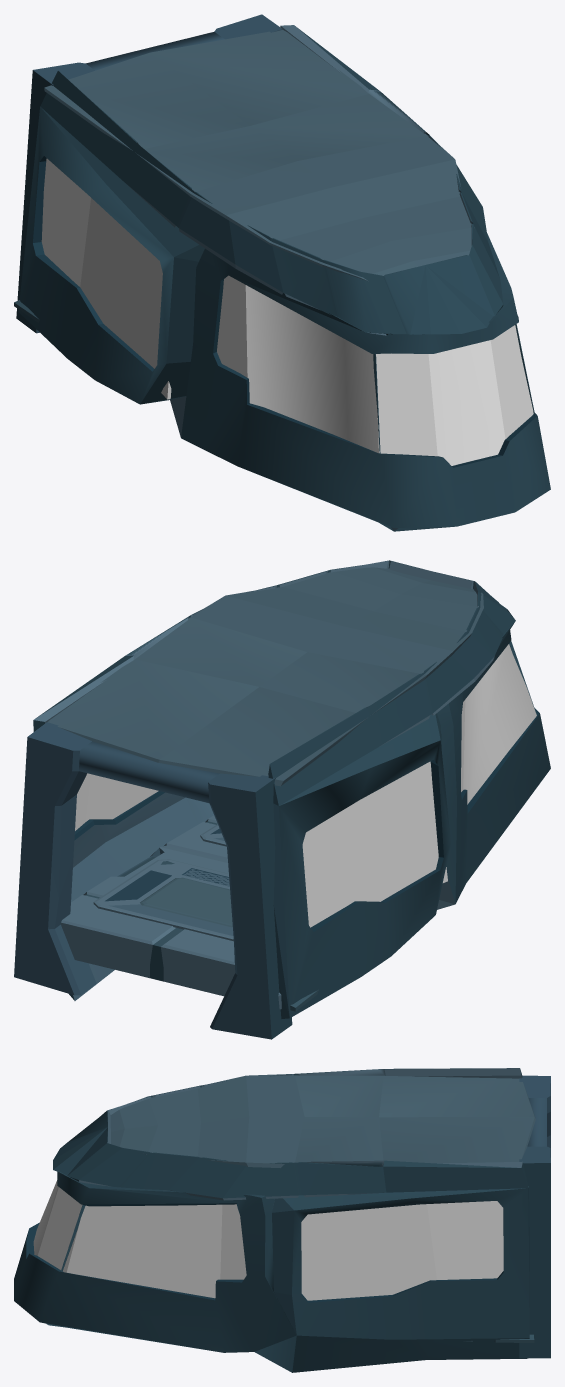
The model's file is CABINA.fbx.
3 renders of one model, top to bottom at view 1: azimuth 30°, elevation 25°; view 2: azimuth 150°, elevation 25°; view 3: azimuth 270°, elevation 25°, orthographic. The views are drawn at different scales.
Visible parts, largest first — view 1: PuenteEsqueleto, PuenteTecho, PuenteCristales; view 2: PuenteEsqueleto, PuenteTecho, PuenteCristales, PuenteBase; view 3: PuenteEsqueleto, PuenteTecho, PuenteCristales.
Part boxes in pixels (x1,y1,x2,y2): PuenteEsqueleto: [16, 14, 550, 531]; PuenteTecho: [44, 30, 474, 281]; PuenteCristales: [41, 158, 533, 465]; PuenteEsqueleto: [14, 560, 550, 1039]; PuenteTecho: [48, 567, 483, 786]; PuenteCristales: [75, 644, 536, 927]; PuenteBase: [60, 815, 318, 1011]; PuenteEsqueleto: [14, 1068, 550, 1372]; PuenteTecho: [110, 1074, 535, 1167]; PuenteCristales: [33, 1180, 503, 1300].
Bounding box in the file's own units: 525 × 494 × 1044.
